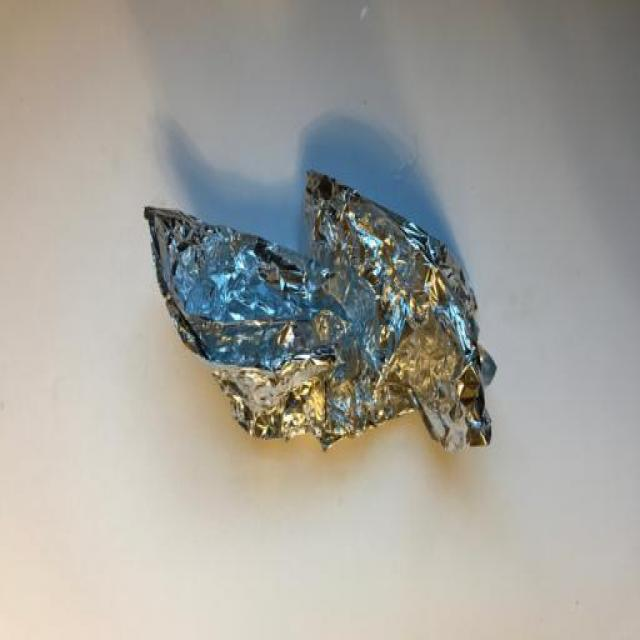others: (105, 165, 523, 470)
